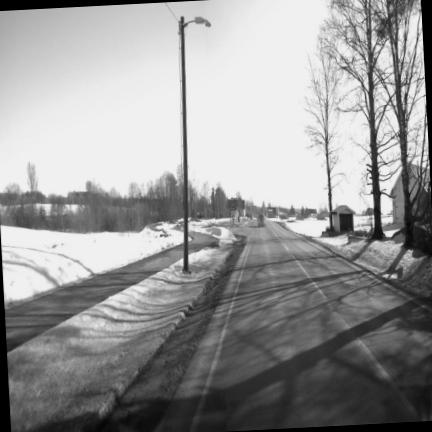Road: (155, 222, 431, 431)
